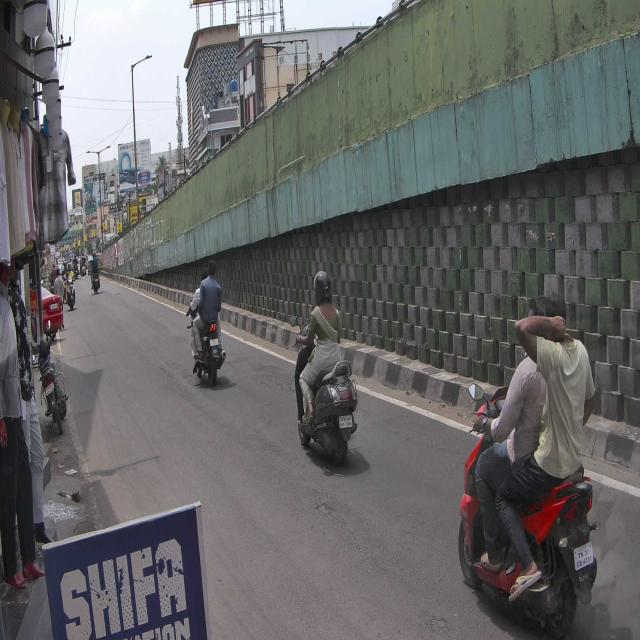double_rider: (458, 290, 598, 637)
single_rider: (289, 268, 358, 466)
